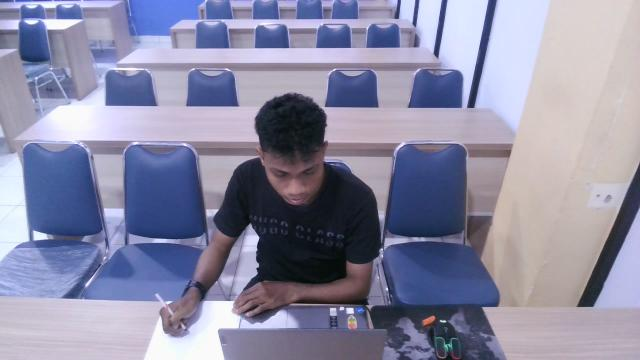Normal_Writing: (142, 54, 399, 360)
